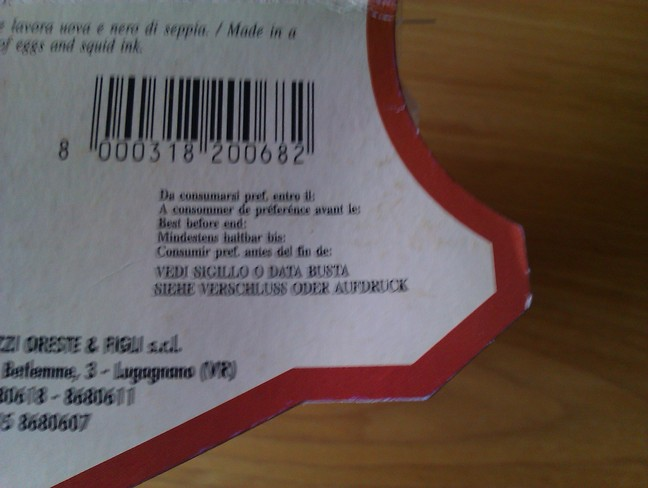barcode: (47, 67, 357, 179)
